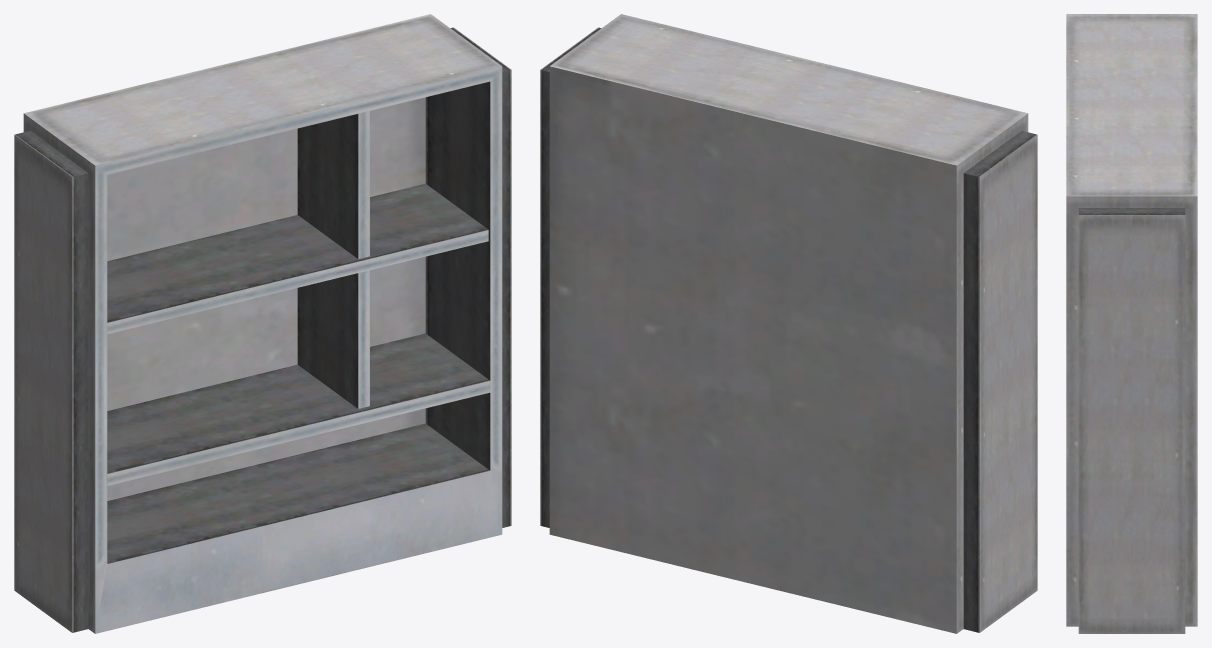
Rendered from frn_all_plan_bookcase_s01_l2.fbx.
3 views of the same model, side by side, from view 1: azimuth 30°, elevation 25°; view 2: azimuth 150°, elevation 25°; view 3: azimuth 270°, elevation 25° (orthographic). The views are drawn at different scales.
Visible parts, largest first — view 1: mesh_node; view 2: mesh_node; view 3: mesh_node.
Boxes of the visible parts, bbox=[...] form: mesh_node: bbox=[14, 14, 511, 633]; mesh_node: bbox=[540, 14, 1037, 633]; mesh_node: bbox=[1066, 14, 1197, 633].
Size of the model in its own units: 1.77 by 1.8 by 0.4979.
1 material, 1 textured.
